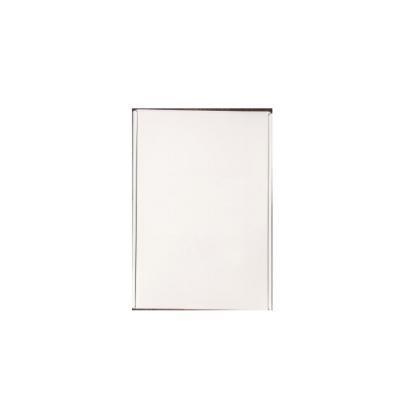package: (133, 110, 271, 309)
